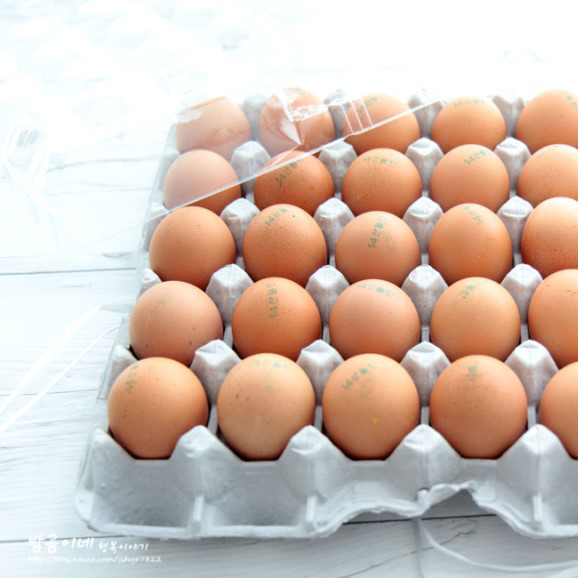egg: (96, 89, 578, 462)
